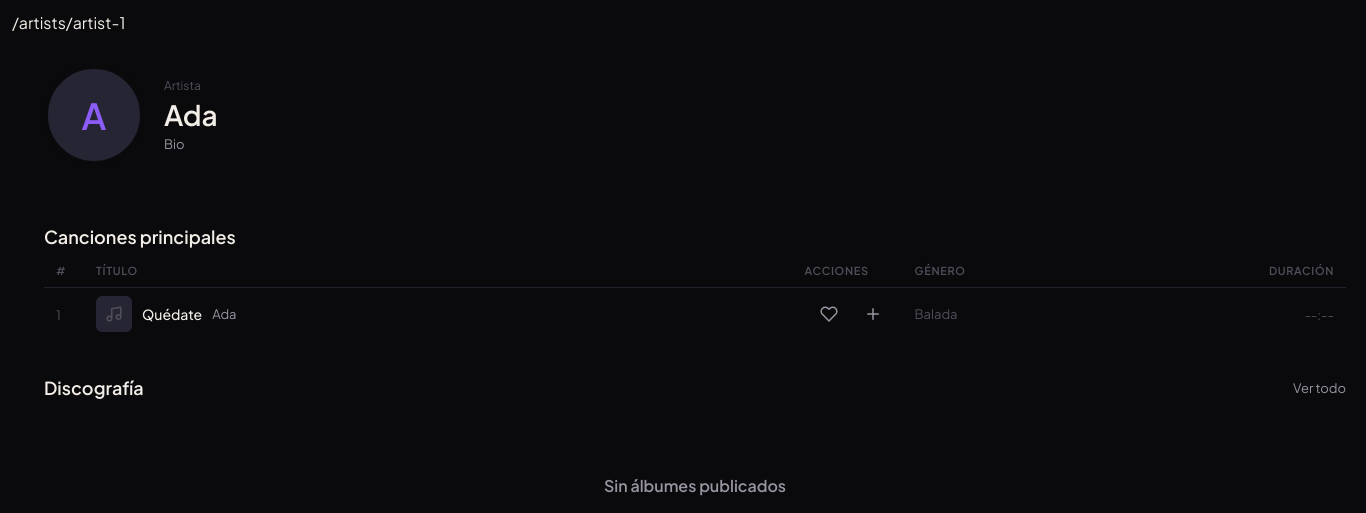
Test case: ListenerPages › shows the track genre in artist top songs and exposes discography navigation even for singles
Check: the text "Balada" is shown, box x1=915 y1=306 x2=958 y2=322
Click the button "Ver todo" at (1320, 388), box x1=1293 y1=380 x2=1346 y2=396
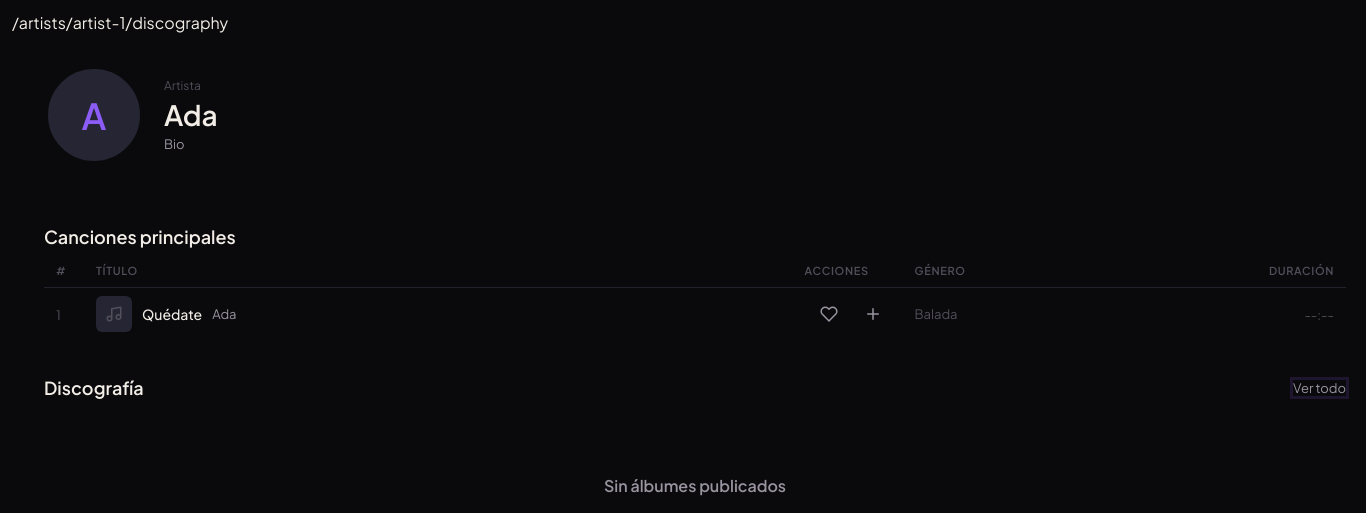
Check: the text with test id "location" reads "/artists/artist-1/discography", box x1=12 y1=12 x2=228 y2=33
